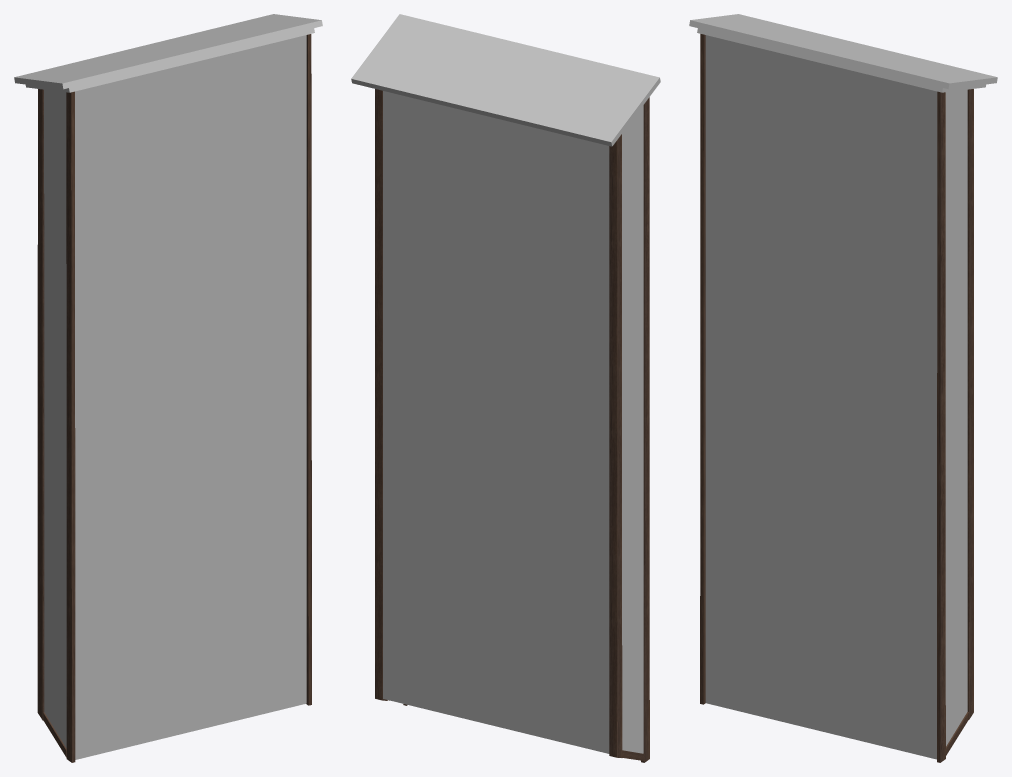
The model's file is jovhouse_window05d.fbx.
3 views of the same model, side by side, from view 1: azimuth 30°, elevation 25°; view 2: azimuth 150°, elevation 25°; view 3: azimuth 330°, elevation 25° (orthographic).
Visible parts, largest first — view 1: jovhouse_window05d; view 2: jovhouse_window05d; view 3: jovhouse_window05d.
Part boxes in pixels (left/top/right/bottom): jovhouse_window05d: left=14, top=14, right=322, bottom=762; jovhouse_window05d: left=351, top=14, right=660, bottom=762; jovhouse_window05d: left=689, top=14, right=997, bottom=762.
Bounding box in the file's own units: 188 × 473 × 61.98.
